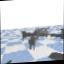drone: (21, 27, 64, 51)
